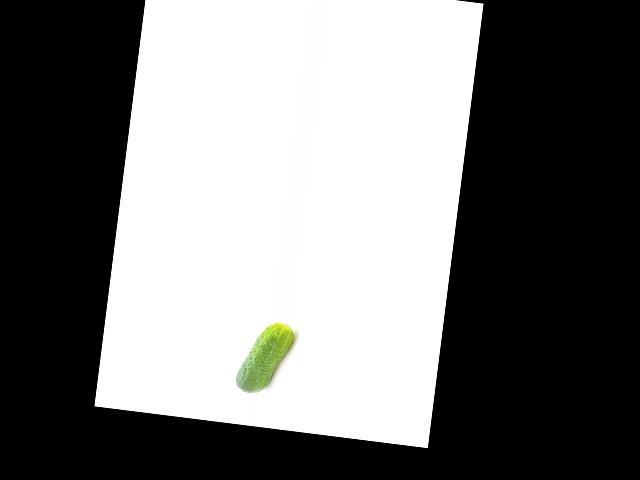cucumber: (234, 317, 295, 397)
